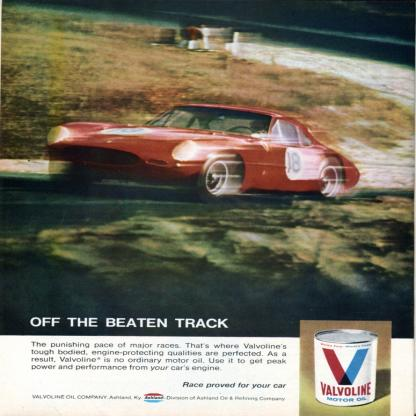Car: (47, 103, 368, 199)
